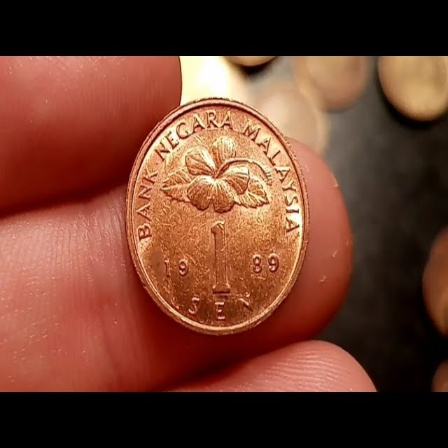1c: (123, 95, 310, 337)
